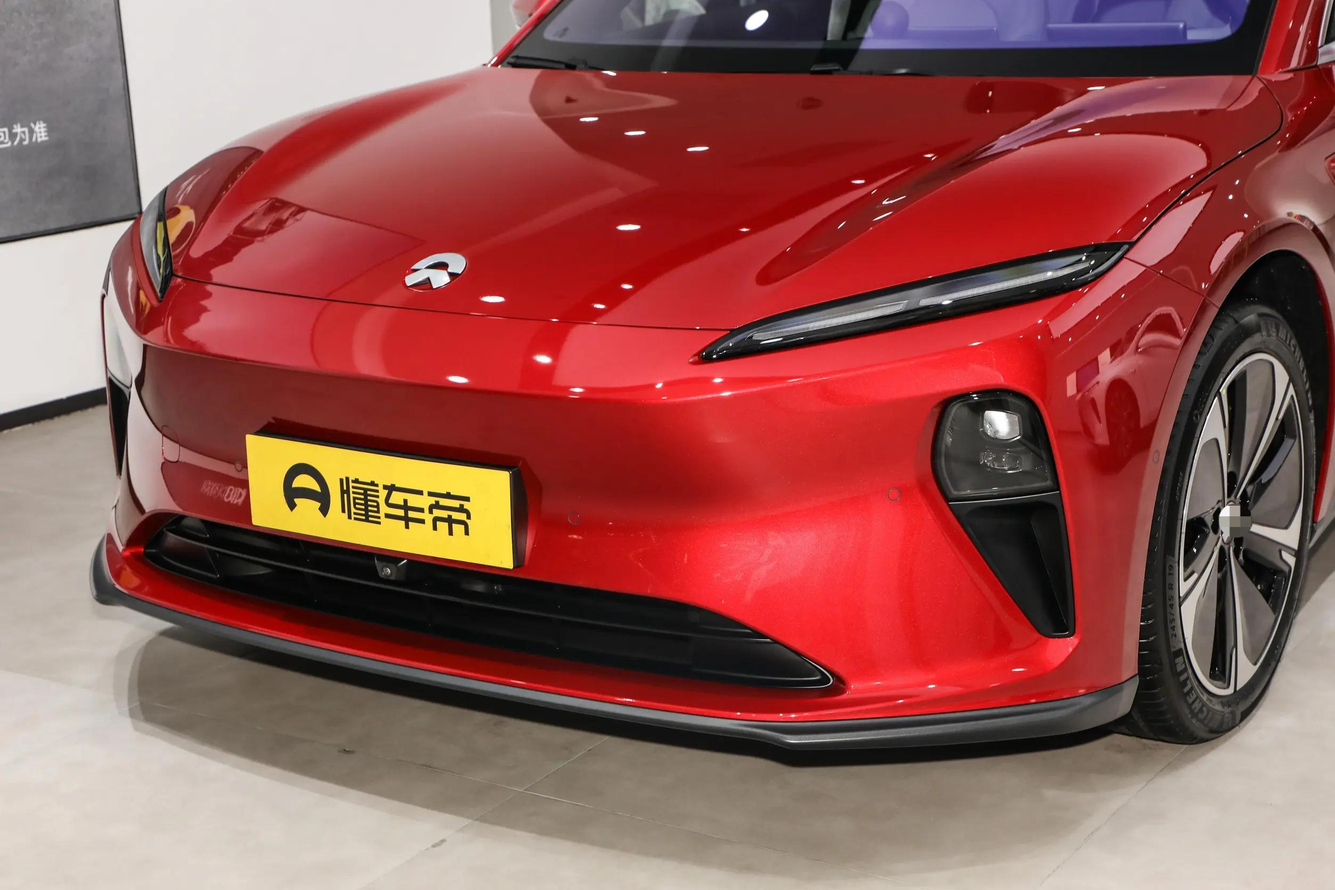NIO: (405, 252, 466, 290)
